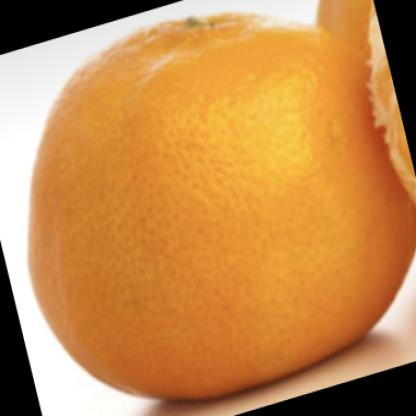orange: (26, 6, 407, 402)
